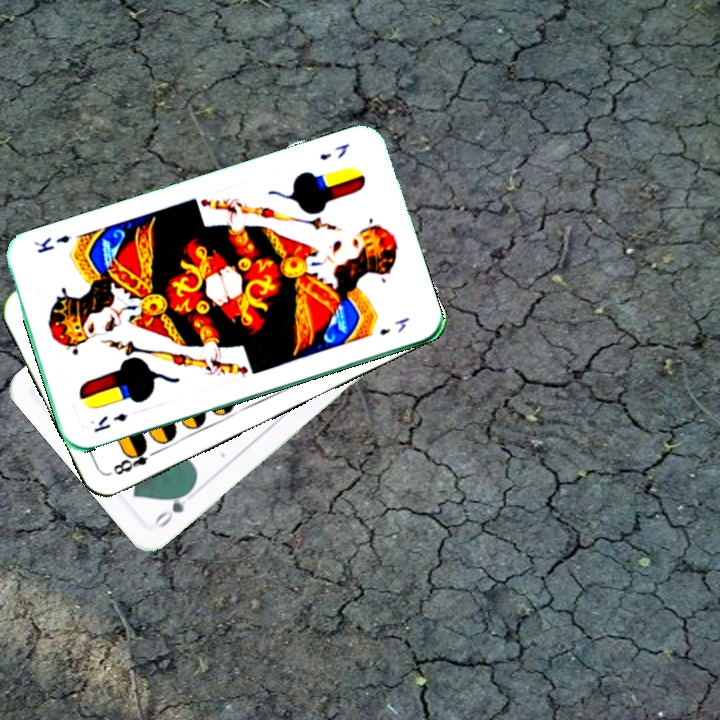E8: (109, 441, 162, 478)
EK: (90, 409, 131, 435), (315, 139, 352, 163)
GO: (150, 484, 195, 531)
